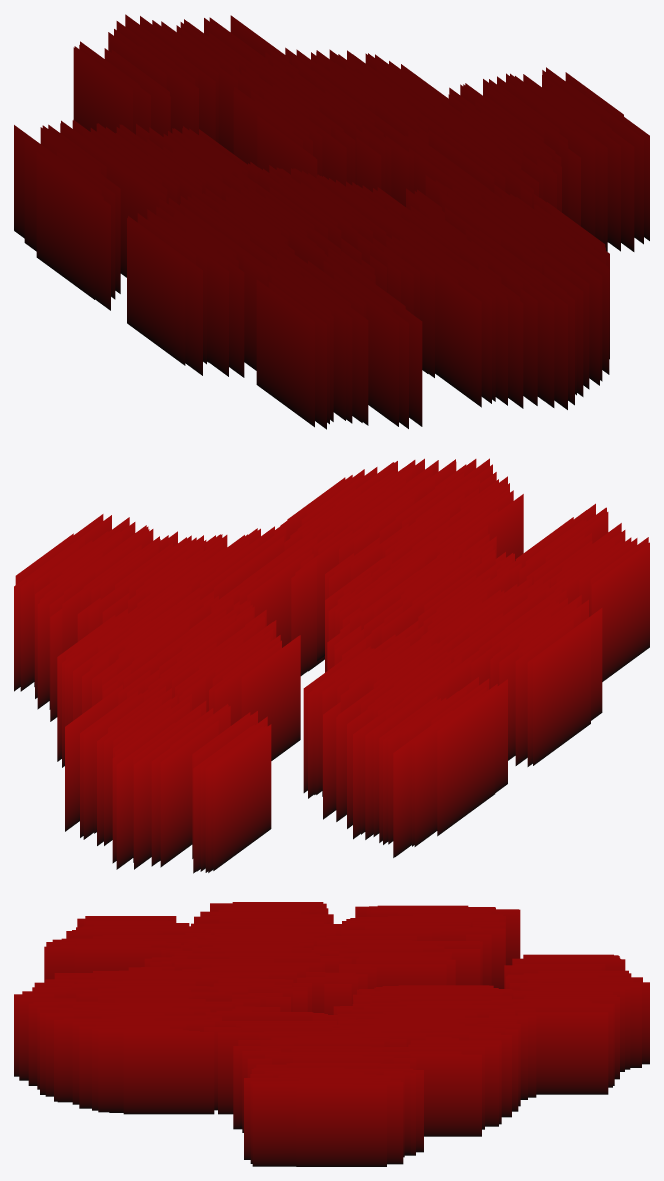
File: Roseau 3.fbx
3 renders of one model, top to bottom at view 1: azimuth 30°, elevation 25°; view 2: azimuth 150°, elevation 25°; view 3: azimuth 270°, elevation 25°, orthographic. The views are drawn at different scales.
Parts seen in each view (by area): view 1: Landscape.008; view 2: Landscape.008; view 3: Landscape.008.
Boxes of the visible parts, x1,y1,x2,y2 form: Landscape.008: (14, 14, 649, 429); Landscape.008: (14, 458, 649, 873); Landscape.008: (14, 902, 649, 1166).
Bounding box in the file's own units: 1.59 × 0.4335 × 2.36.
